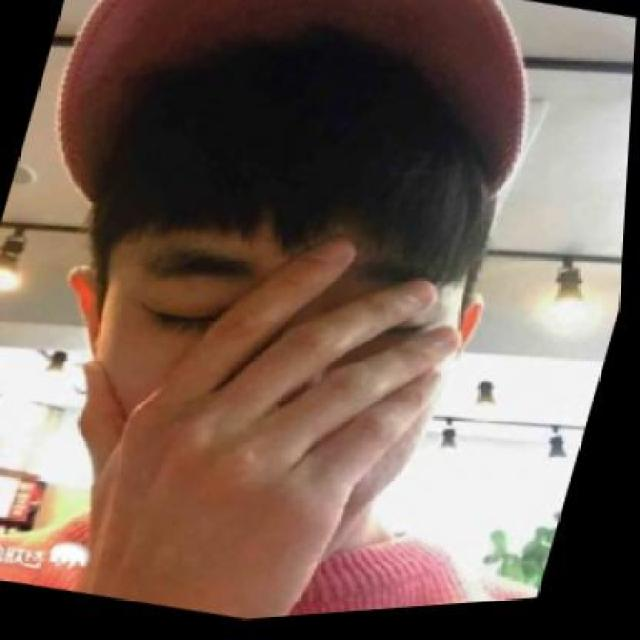hat: (22, 0, 570, 302)
